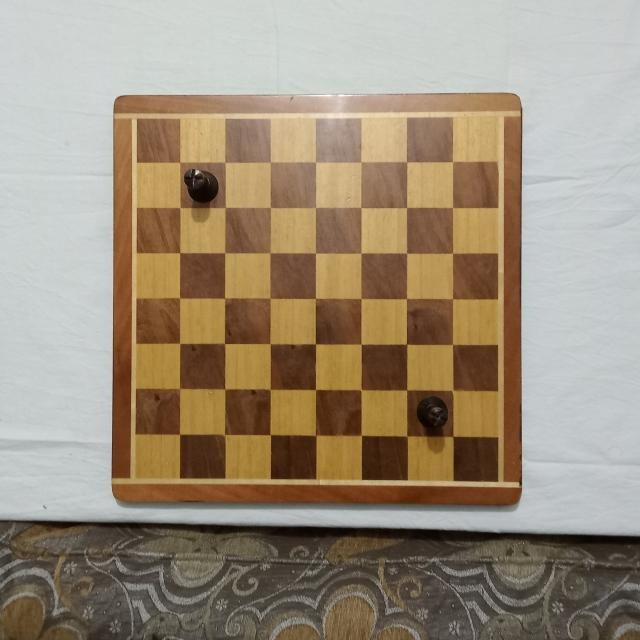black-rook: (184, 167, 219, 204), (415, 395, 448, 429)
